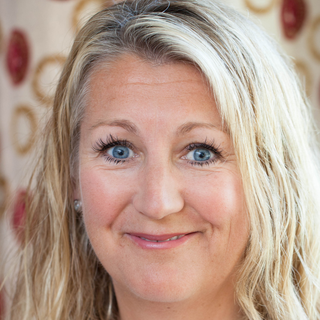eye: (176, 140, 225, 167), (95, 138, 142, 166)
